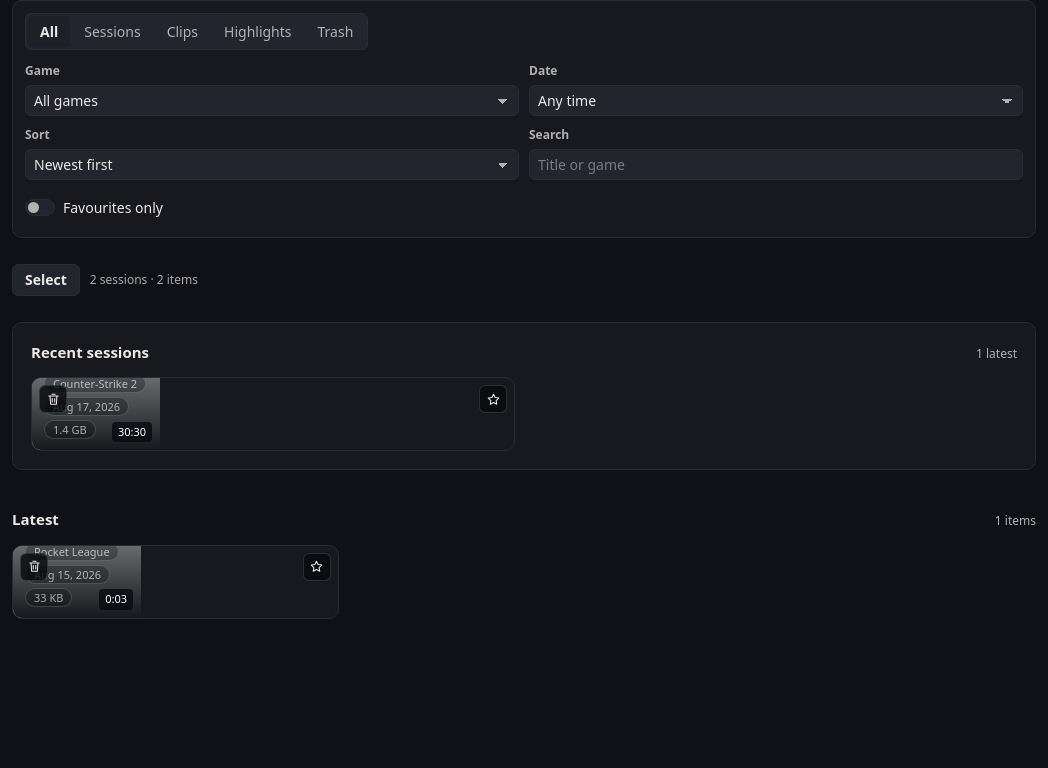
Test case: LibraryView filters and sorting › clears every filter but keeps the sort
The image size is (1048, 768).
Select "Oldest first" in the dropdown labelled "Sort" at (272, 164), box [25, 149, 519, 180]
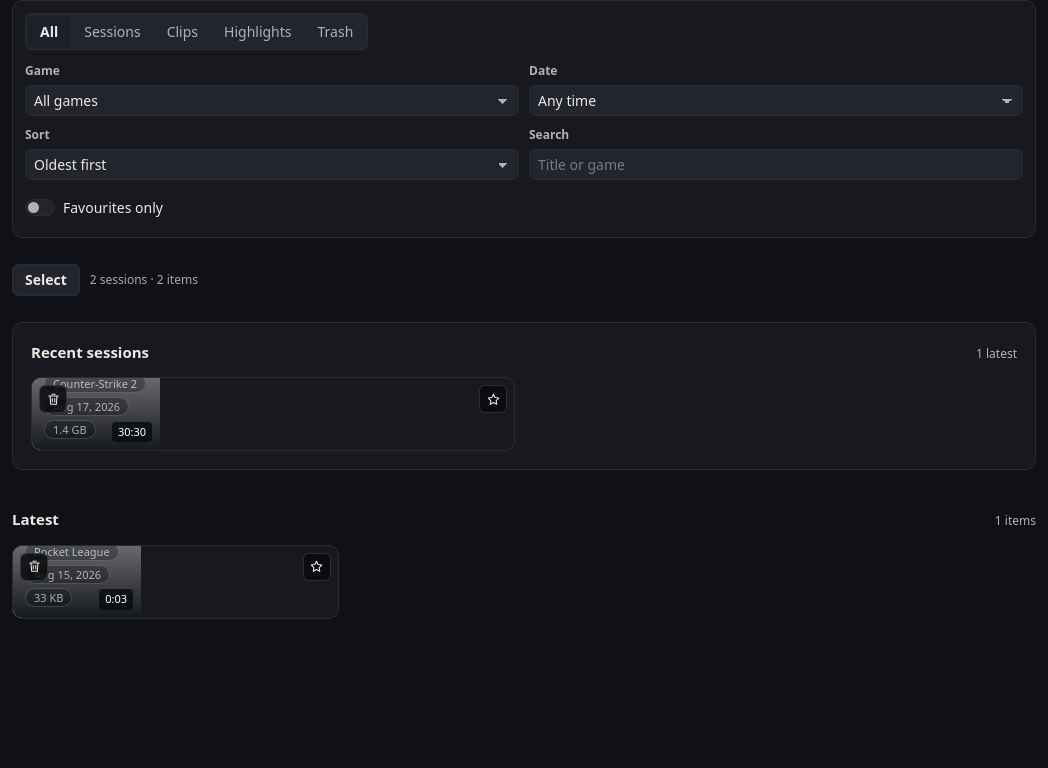
Click the radio button labelled "Clips" at (182, 32), box [155, 16, 210, 47]
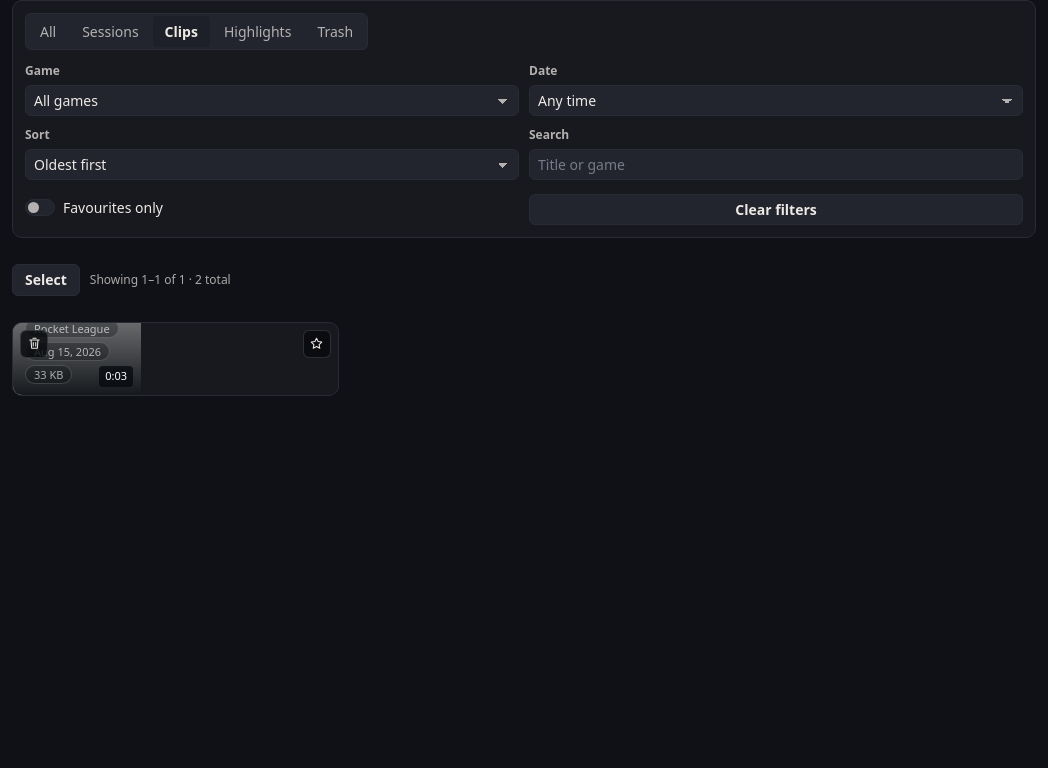
Type "nice" into the field labelled "Search" at (776, 164), box [529, 149, 1023, 180]
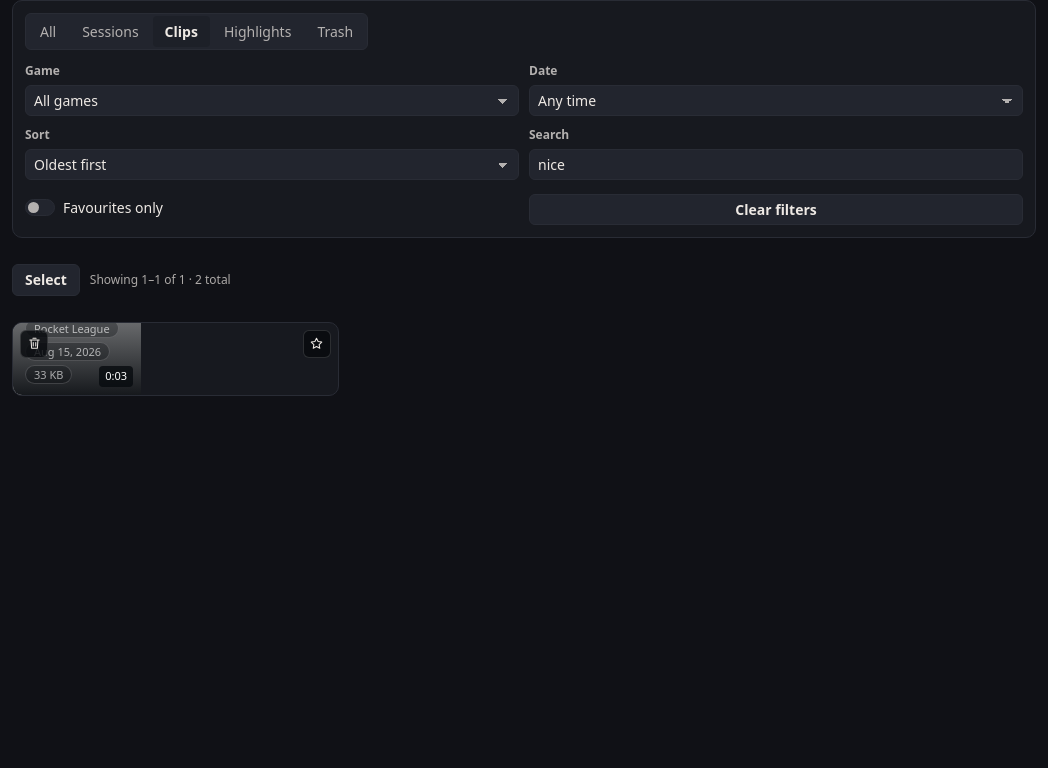
Click the button "Clear filters" at (776, 209), box [529, 194, 1023, 225]
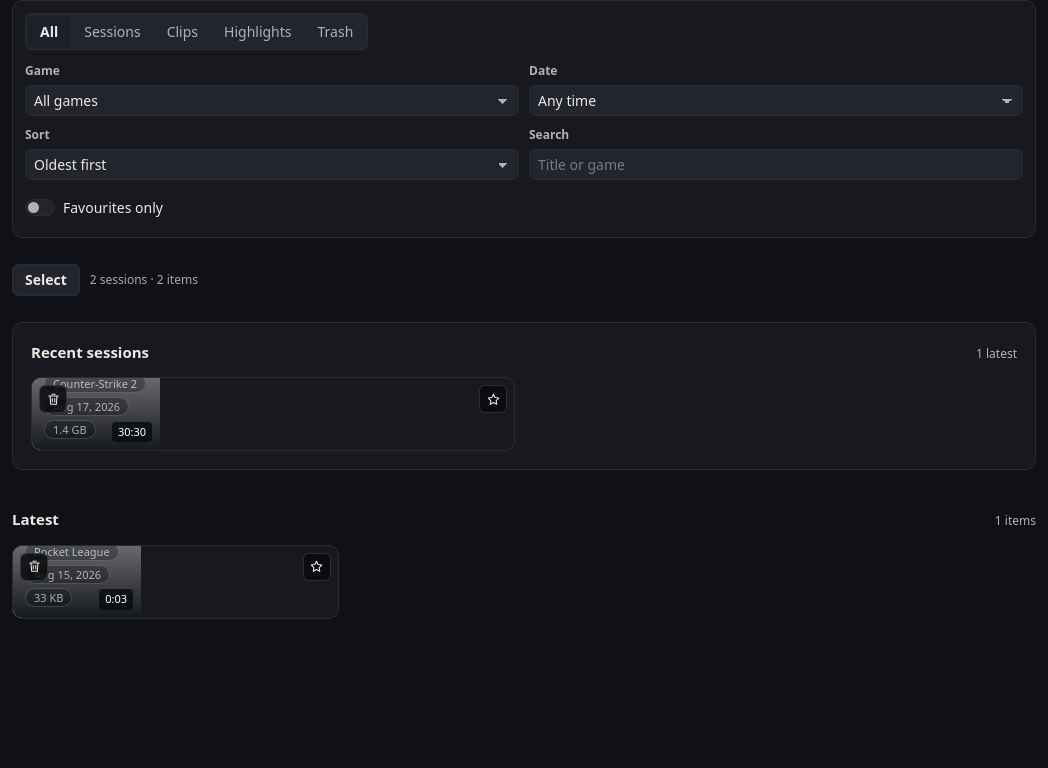
Expected: the radio button labelled "All" is shown, [28, 16, 70, 47]
Expected: the field labelled "Search" is empty, [529, 149, 1023, 180]
Expected: the button "Clear filters" is gone
